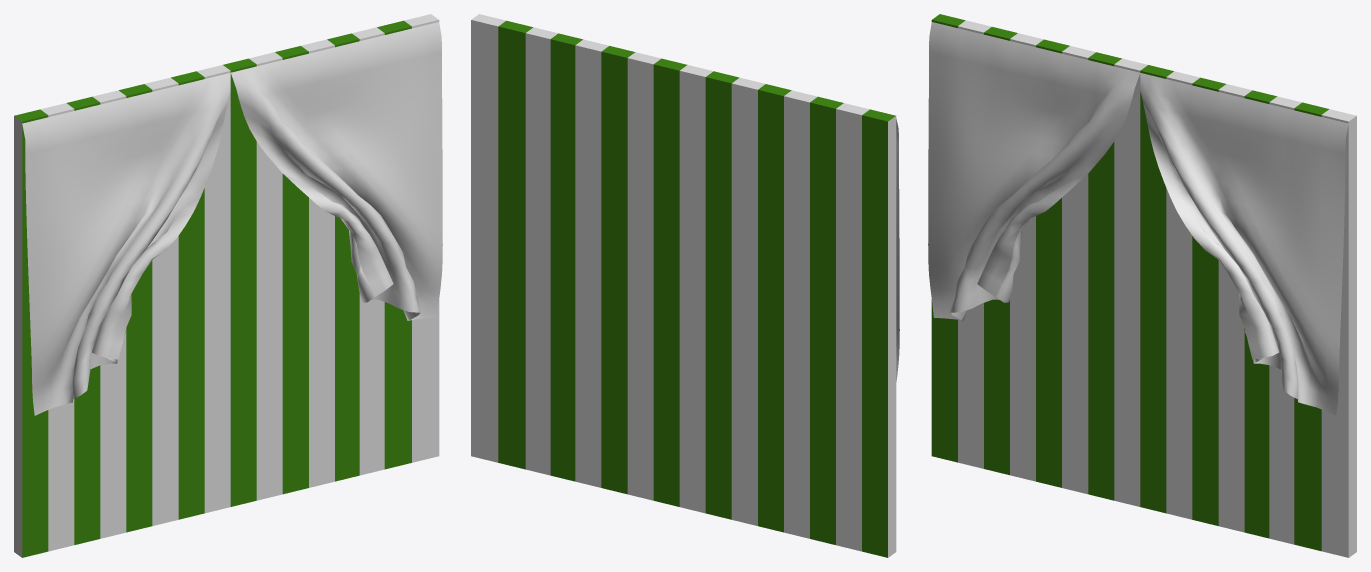
The model's file is Paredcortinas.fbx.
3 renders of one model, left to right at view 1: azimuth 30°, elevation 25°; view 2: azimuth 150°, elevation 25°; view 3: azimuth 330°, elevation 25°, orthographic.
Parts seen in each view (by area): view 1: Cube, Cortinas; view 2: Cube, Cortinas; view 3: Cube, Cortinas.
Boxes of the visible parts, x1,y1,x2,y2 form: Cube: (14,14,439,557); Cortinas: (22,22,442,415); Cube: (471,14,896,557); Cortinas: (896,119,899,381); Cube: (931,14,1356,557); Cortinas: (928,22,1348,415).
Bounding box in the file's own units: 300 × 34.66 × 300.
